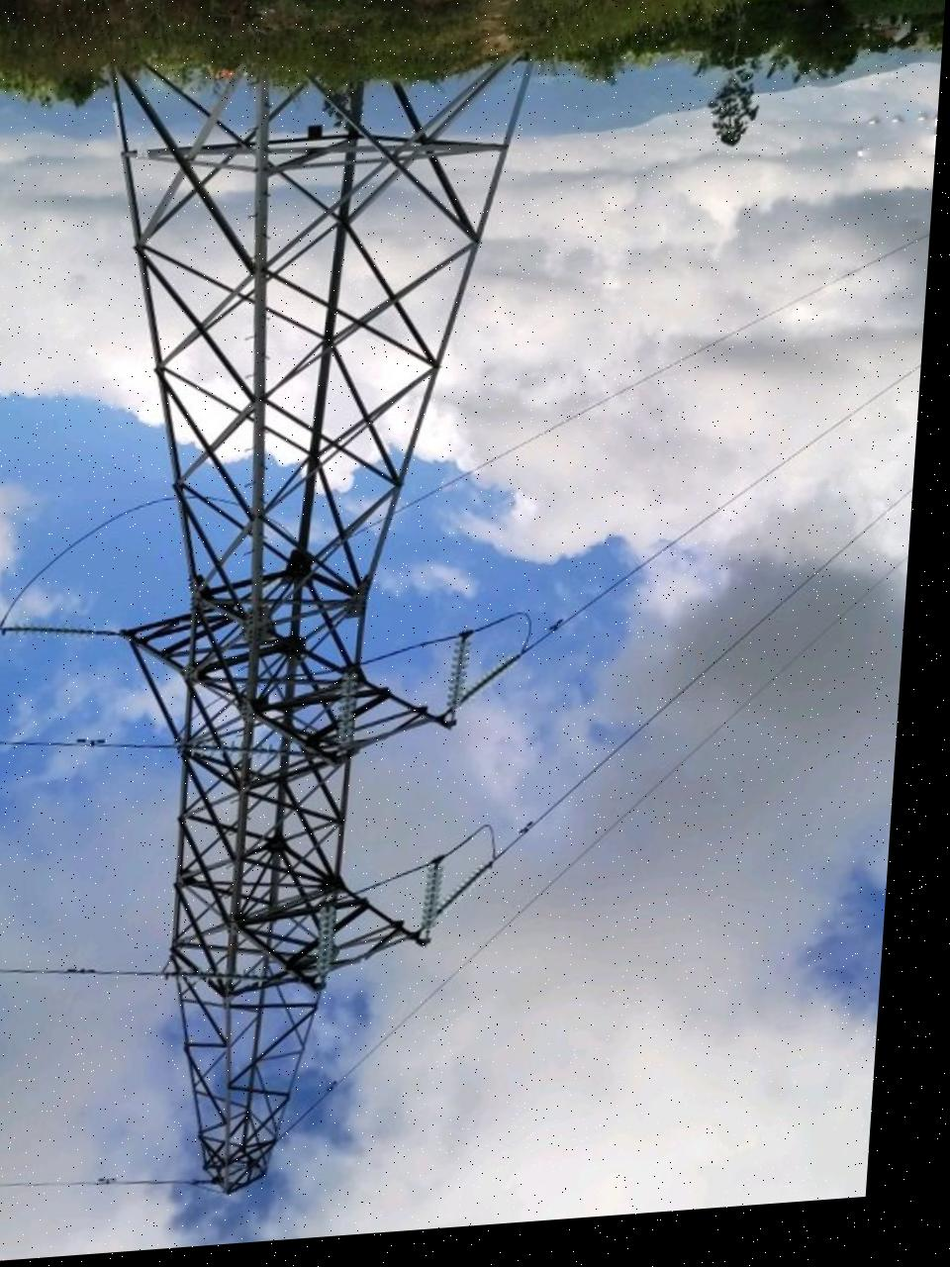tower: (20, 0, 554, 1224)
